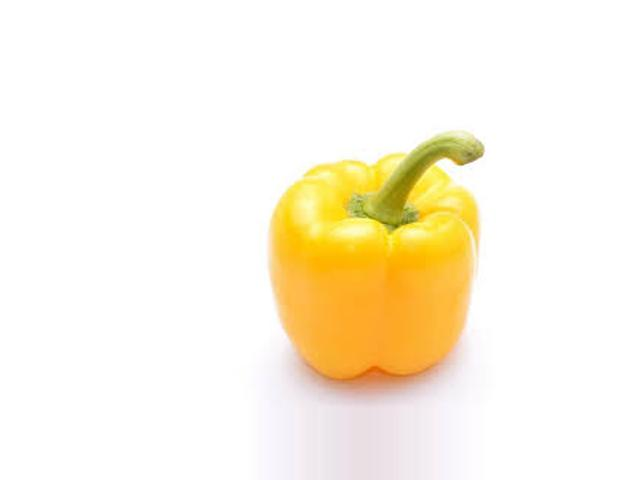bell_pepper: (248, 142, 490, 383)
